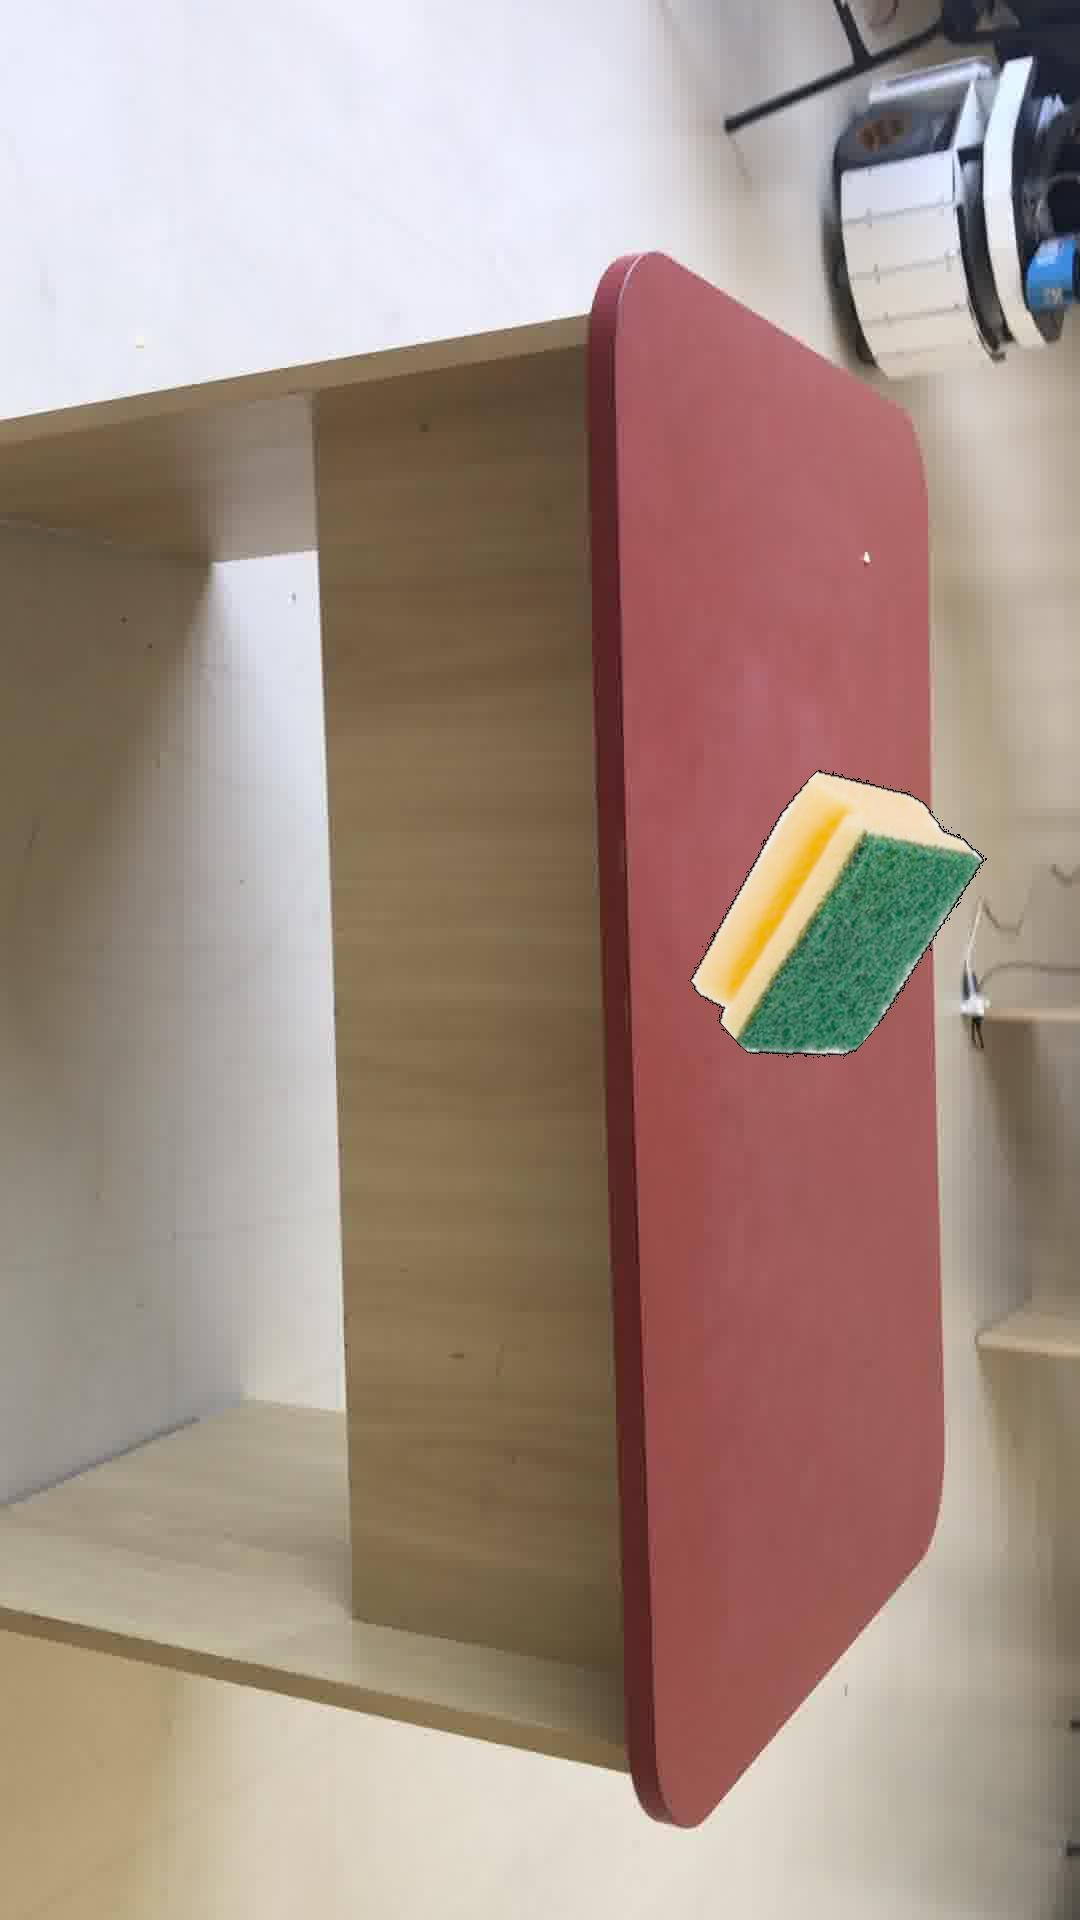sponge: (688, 769, 982, 1055)
